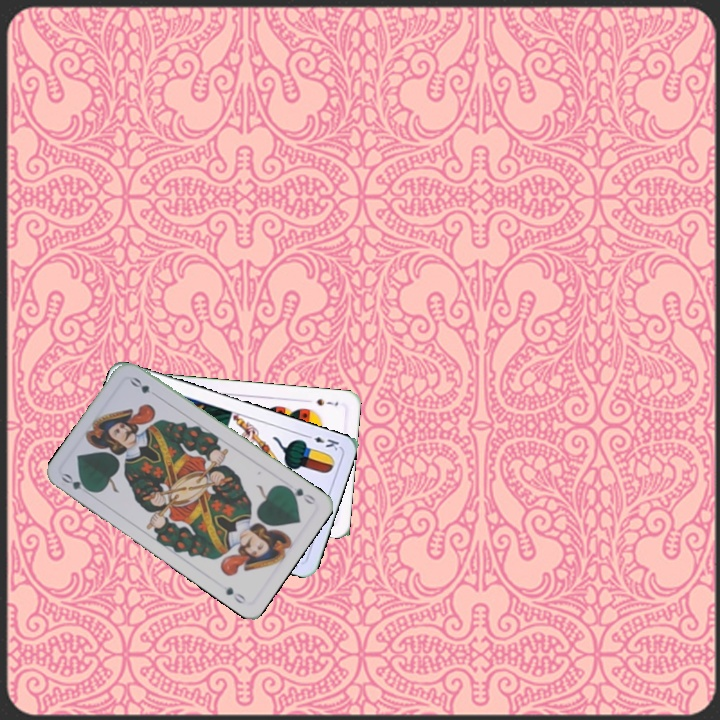EK: (302, 430, 342, 453)
GO: (57, 469, 96, 499), (281, 482, 318, 507)
S7: (312, 395, 341, 409)
